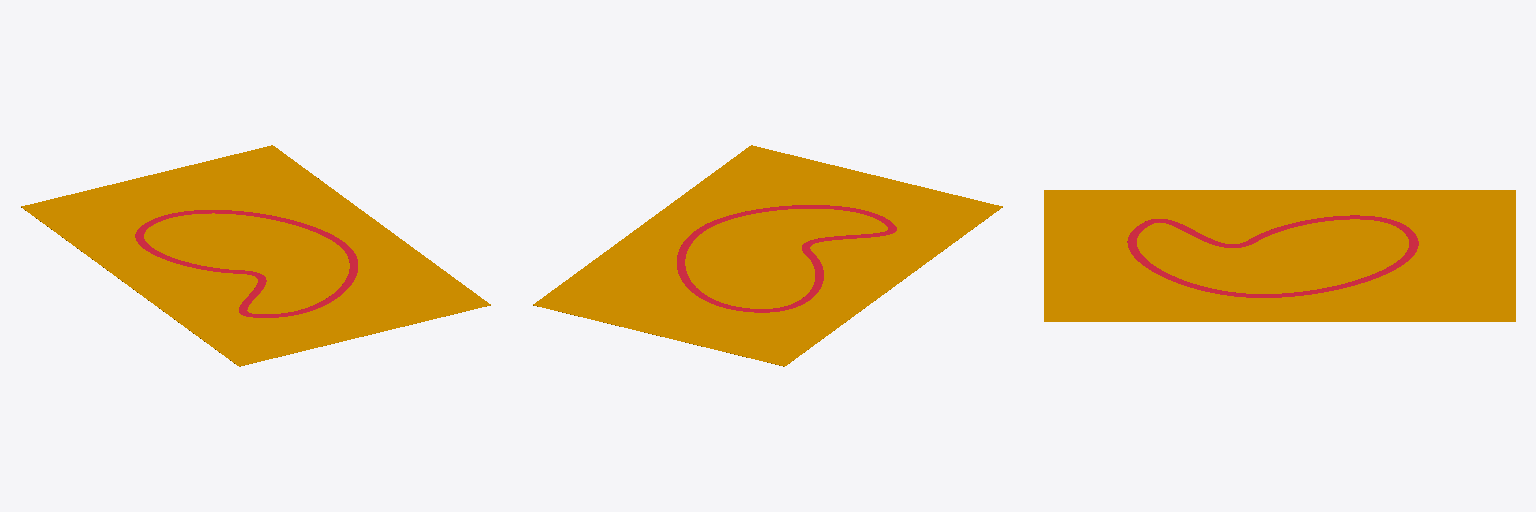
robot.urdf — cube:
<?xml version="1.0" ?>
<robot name="cube">
  <link name="base_link">
    <visual>
      <geometry>
        <box size="20 30 0.01"/>
      </geometry>
    </visual>
    <collision>
      <geometry>
        <box size="20 20 0.01"/>
      </geometry>
      <material name="path_color">
        <color rgba="0.1 0.2 0.9 1"/>
      </material>
    </collision>
    <inertial>
      <mass value="1000000.0"/>
      <origin xyz="0 0 0" rpy="0 0 0"/>
      <inertia ixx="0.0833" ixy="0.0" ixz="0.0" iyy="0.0833" iyz="0.0" izz="0.0833"/>
    </inertial>
  </link>

  <link name="path">
    <visual>
      <geometry>
        <mesh filename="track_path.dae" scale="10 10 10"/>
      </geometry>
      <material name="path_color">
        <color rgba="0.9 0.2 0.3 1"/>
      </material>
    </visual>
    <inertial>
      <mass value="1000000.0"/>
      <origin xyz="0 0 0" rpy="0 0 0"/>
      <inertia ixx="0.0833" ixy="0.0" ixz="0.0" iyy="0.0833" iyz="0.0" izz="0.0833"/>
    </inertial>
  </link>
  <joint name="fixed_joint" type="fixed">
    <parent link="base_link"/>
    <child link="path"/>
    <origin xyz="6 -2 0.01" rpy="0 0 0"/>
  </joint>

</robot>

--- Facts derived from the render (not from the file) ---
3 views of the same robot in one strip: view 1: azimuth 30°, elevation 25°; view 2: azimuth 150°, elevation 25°; view 3: azimuth 270°, elevation 25° (orthographic).
Model cube with 2 links and 1 joints (1 fixed), rooted at base_link, posed every joint at zero.
Links seen in each view (by area): view 1: base_link, path; view 2: base_link, path; view 3: base_link, path.
Link boxes in pixels (x1,y1,x2,y2): base_link: (21,145,490,366); path: (135,210,357,317); base_link: (533,145,1002,366); path: (677,205,896,312); base_link: (1044,190,1515,321); path: (1127,215,1418,297).
Size in the robot's own frame: 20 by 30 by 0.02 metres.
Meshes: 1 distinct files referenced, 1 mesh visuals loaded (1 Collada DAE).